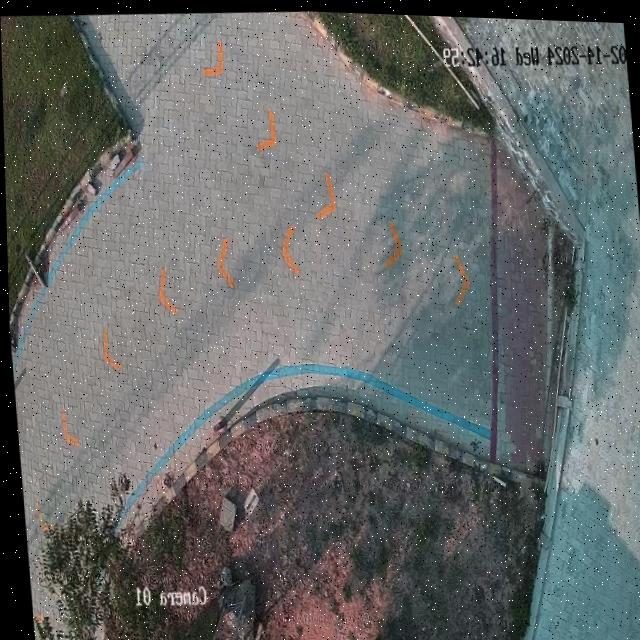No Car: (0, 9, 640, 640)
